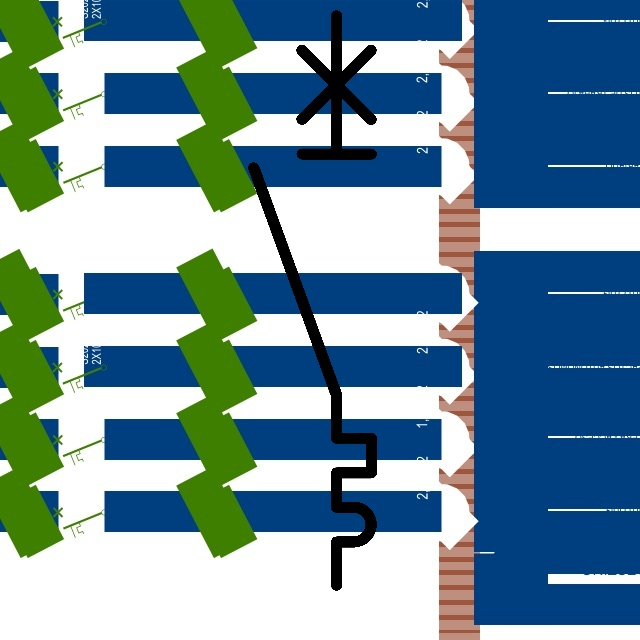interruptor_termomagnetico: (239, 1, 386, 600)
